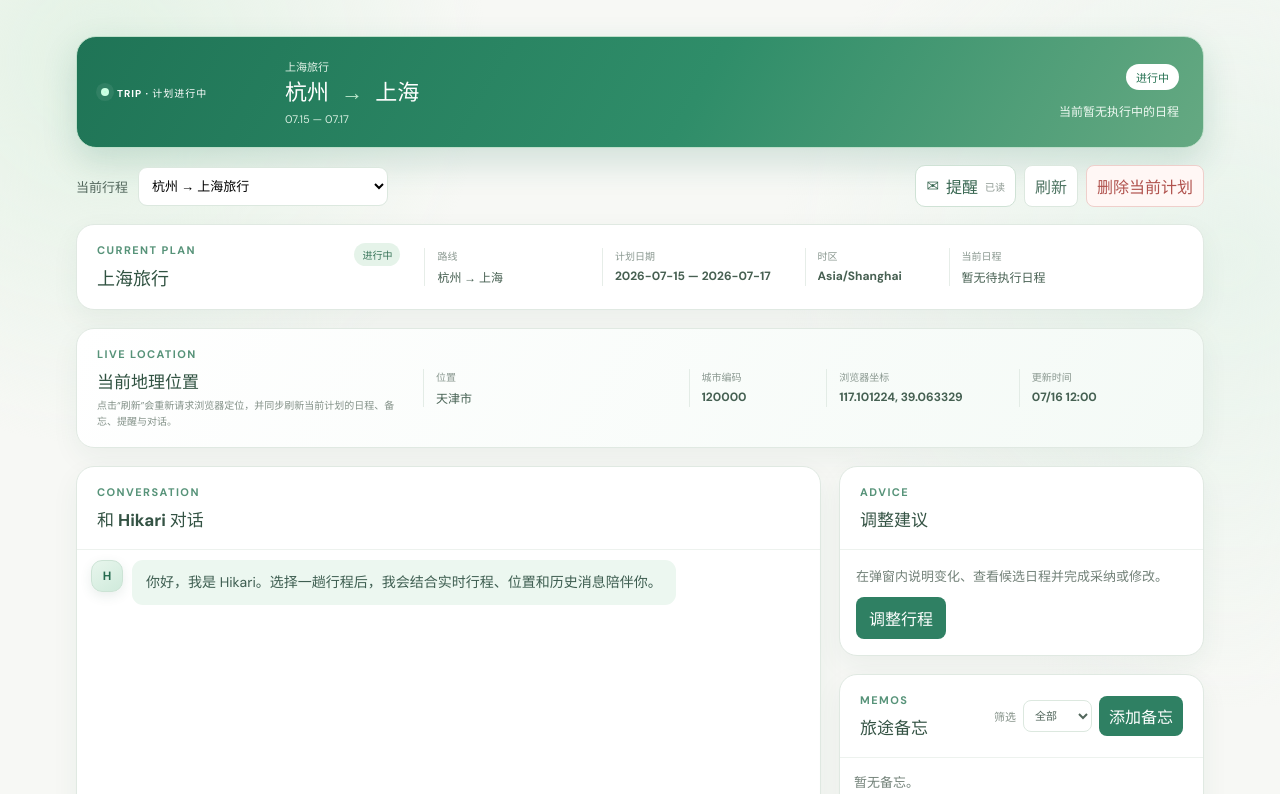
Test: Companion adjustment dialog › opens memo and itinerary creation in dedicated dialogs
Click the button "添加备忘": (1141, 716) [1099,696,1183,736]
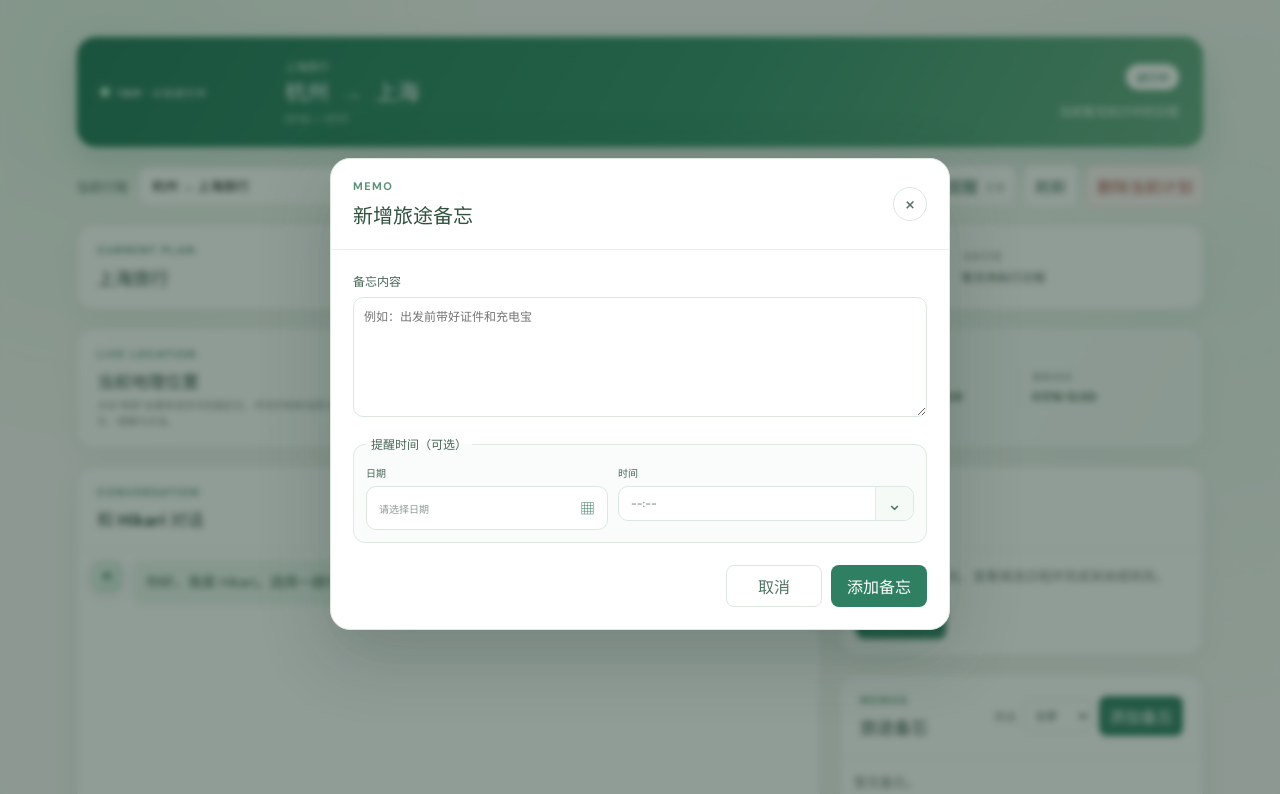
Result: the text "新增旅途备忘" is shown at [353,200,473,229]
Result: the dialog with class "memo-dialog" is shown at [330,158,950,630]
Result: the number of elements with class "date-picker" is 1 at [366,486,608,530]
Click the button with class "dialog-close": (910, 204) [893,187,927,221]
(page scrolled)
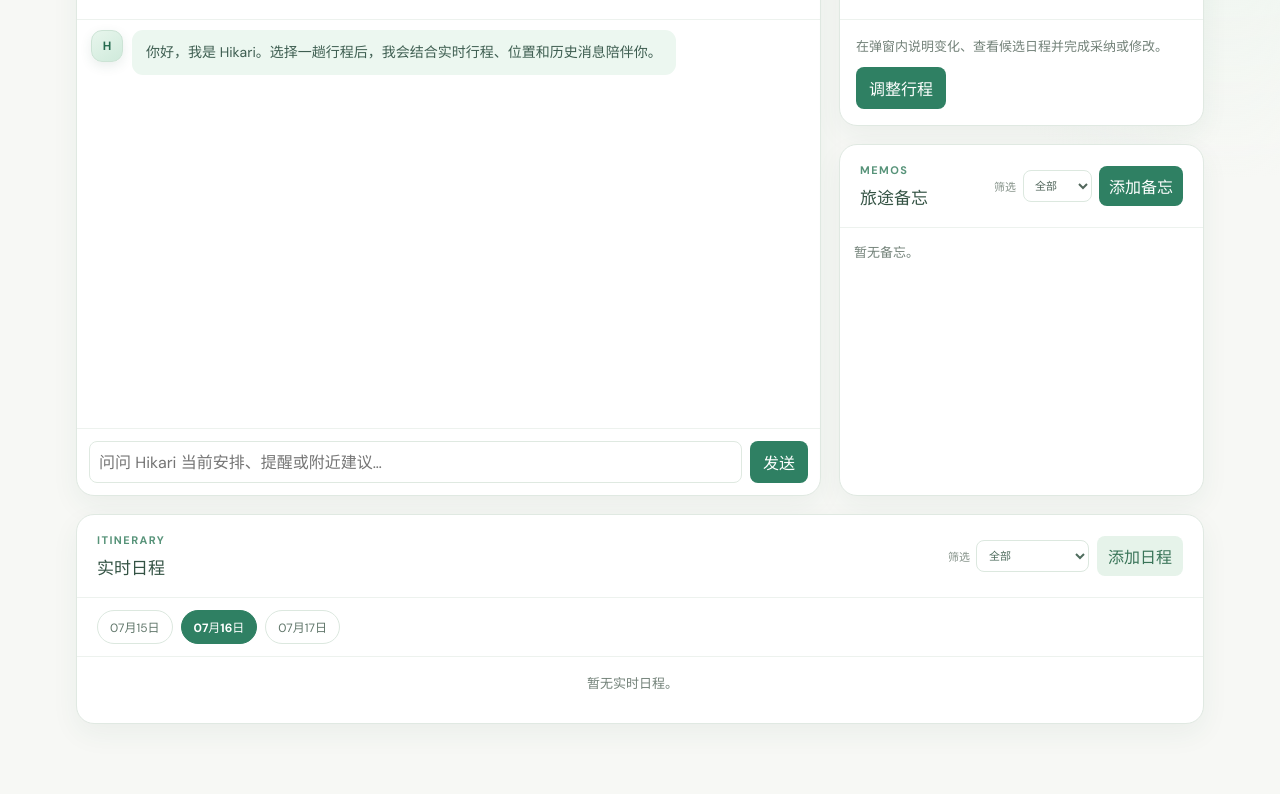
Click the button "添加日程": (1140, 556) [1097,536,1183,576]
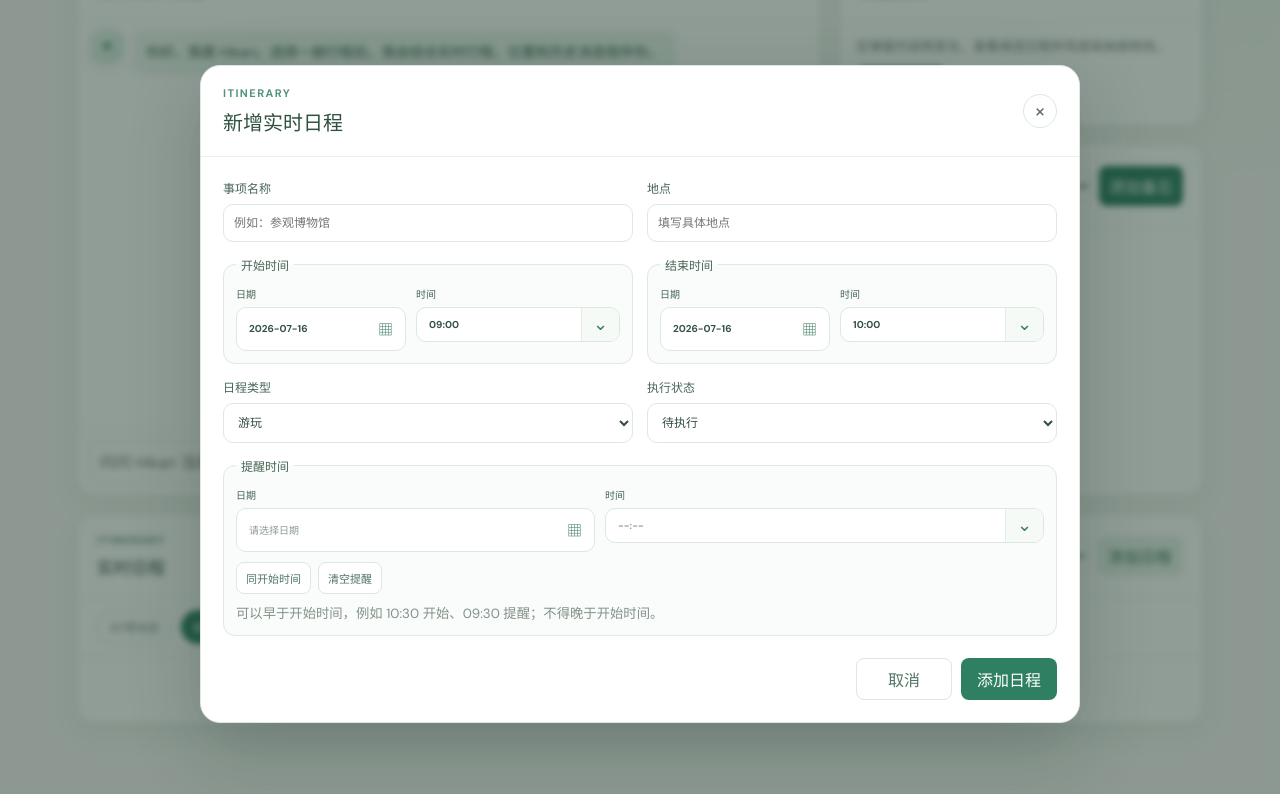
Result: the text "新增实时日程" is shown at [223,106,343,136]
Result: the dialog with class "itinerary-dialog" is shown at [200,64,1080,724]
Result: the number of elements with class "date-picker" is 3 at [236,306,406,350]; [660,306,830,350]; [236,508,595,552]
